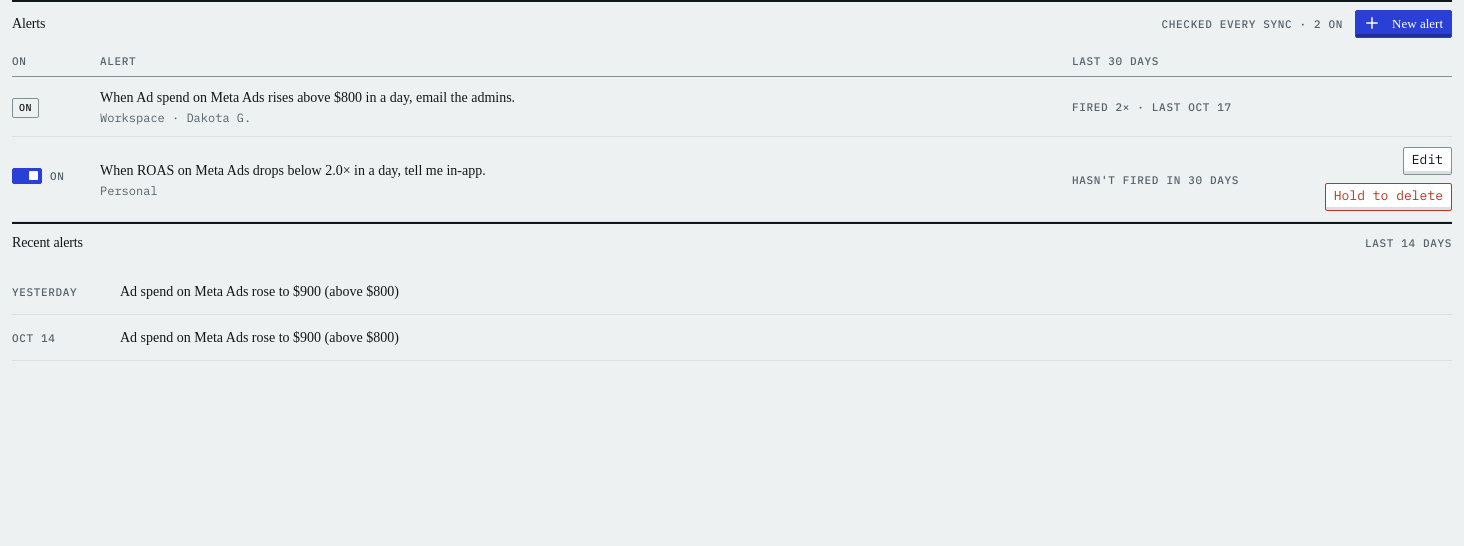
Test: AlertsPanel › members can't change workspace alerts or create them
This screenshot has width=1464, height=546.
Click the button "New alert": point(1404, 24) [1355,10,1452,38]
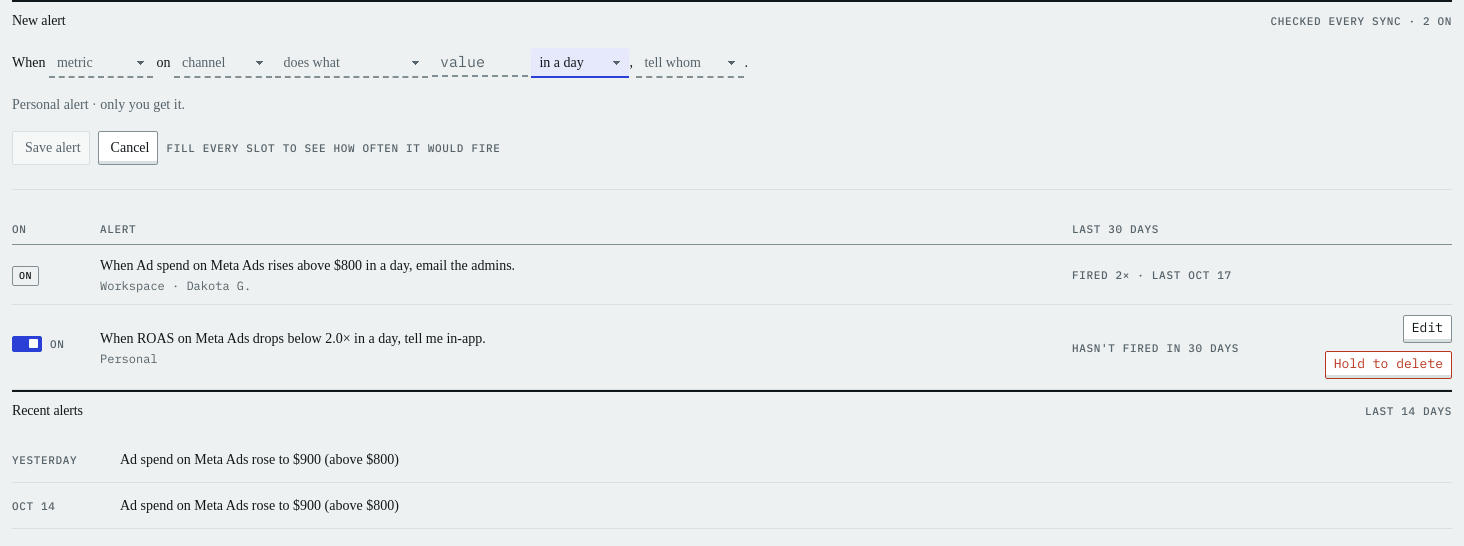
Result: the text "Personal alert · only you get it." is shown at [12,97,185,112]
